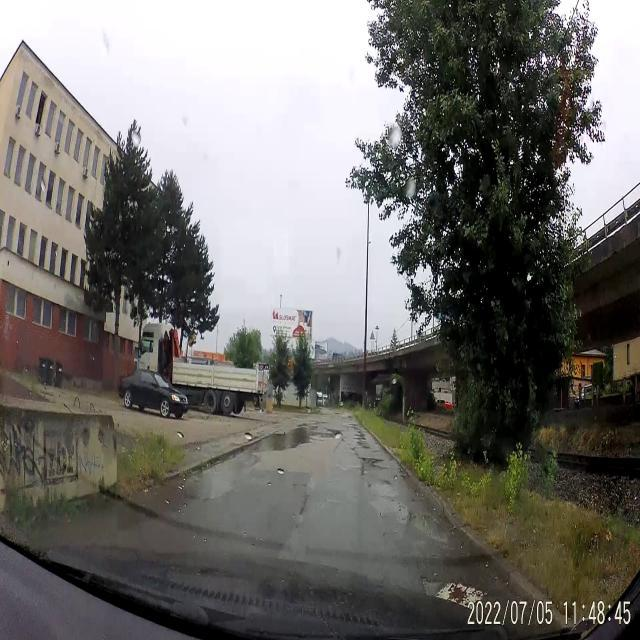Manhole: (432, 568, 486, 614)
Pothole: (268, 424, 346, 480)
